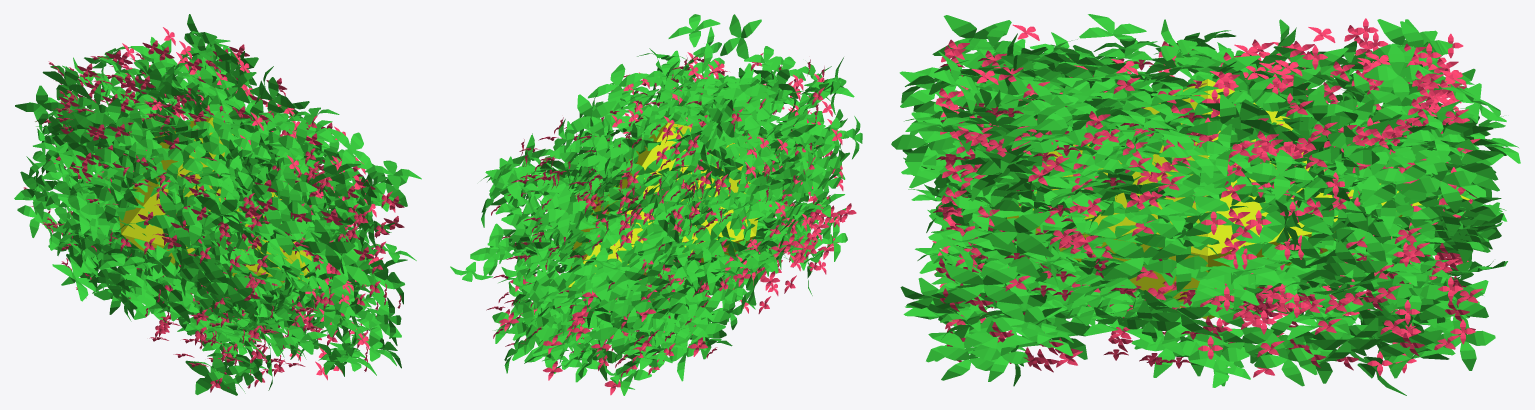
File: bushPinkFlower.fbx
3 views of the same model, side by side, from view 1: azimuth 30°, elevation 25°; view 2: azimuth 150°, elevation 25°; view 3: azimuth 270°, elevation 25° (orthographic). The views are drawn at different scales.
Parts seen in each view (by area): view 1: bushFlower, bushFlower|leaf|Dupli|85, bushFlower|leaf|Dupli|481, bushFlower|leaf|Dupli|111, bushFlower|leaf|Dupli|1006, bushFlower|leaf|Dupli|273, bushFlower|leaf|Dupli|475, bushFlower|leaf|Dupli|509, bushFlower|leaf|Dupli|687, bushFlower|leaf|Dupli|771, bushFlower|leaf|Dupli|980, bushFlower|leaf|Dupli|749 (+62 smaller); view 2: bushFlower, bushFlower|leaf|Dupli|488, bushFlower|leaf|Dupli|174, bushFlower|leaf|Dupli|541, bushFlower|leaf|Dupli|314, bushFlower|leaf|Dupli|440, bushFlower|leaf|Dupli|117, bushFlower|leaf|Dupli|171, bushFlower|leaf|Dupli|216, bushFlower|leaf|Dupli|786, bushFlower|leaf|Dupli|616, bushFlower|leaf|Dupli|75 (+47 smaller); view 3: bushFlower, bushFlower|leaf|Dupli|305, bushFlower|leaf|Dupli|507, bushFlower|leaf|Dupli|806, bushFlower|leaf|Dupli|953, bushFlower|leaf|Dupli|67, bushFlower|leaf|Dupli|555, bushFlower|leaf|Dupli|808, bushFlower|leaf|Dupli|111, bushFlower|leaf|Dupli|109, bushFlower|leaf|Dupli|80, bushFlower|leaf|Dupli|747 (+92 smaller).
Part boxes in pixels (x1=…): bushFlower: x1=119, y1=117, x2=311, y2=294; bushFlower|leaf|Dupli|85: x1=246, y1=200, x2=309, y2=255; bushFlower|leaf|Dupli|481: x1=147, y1=190, x2=199, y2=247; bushFlower|leaf|Dupli|111: x1=299, y1=219, x2=355, y2=269; bushFlower|leaf|Dupli|1006: x1=206, y1=259, x2=250, y2=308; bushFlower|leaf|Dupli|273: x1=86, y1=98, x2=141, y2=146; bushFlower|leaf|Dupli|475: x1=324, y1=242, x2=370, y2=288; bushFlower|leaf|Dupli|509: x1=196, y1=196, x2=244, y2=233; bushFlower|leaf|Dupli|687: x1=328, y1=128, x2=372, y2=168; bushFlower|leaf|Dupli|771: x1=145, y1=279, x2=190, y2=322; bushFlower|leaf|Dupli|980: x1=92, y1=178, x2=135, y2=221; bushFlower|leaf|Dupli|749: x1=269, y1=165, x2=317, y2=204; bushFlower: x1=568, y1=122, x2=763, y2=299; bushFlower|leaf|Dupli|488: x1=565, y1=94, x2=616, y2=137; bushFlower|leaf|Dupli|174: x1=540, y1=186, x2=588, y2=236; bushFlower|leaf|Dupli|541: x1=588, y1=64, x2=648, y2=107; bushFlower|leaf|Dupli|314: x1=720, y1=14, x2=761, y2=59; bushFlower|leaf|Dupli|440: x1=718, y1=68, x2=768, y2=115; bushFlower|leaf|Dupli|117: x1=642, y1=185, x2=694, y2=232; bushFlower|leaf|Dupli|171: x1=690, y1=218, x2=730, y2=260; bushFlower|leaf|Dupli|216: x1=590, y1=313, x2=646, y2=354; bushFlower|leaf|Dupli|786: x1=579, y1=134, x2=627, y2=178; bushFlower|leaf|Dupli|616: x1=607, y1=261, x2=648, y2=300; bushFlower|leaf|Dupli|75: x1=648, y1=286, x2=690, y2=329; bushFlower: x1=1007, y1=79, x2=1470, y2=319; bushFlower|leaf|Dupli|305: x1=943, y1=264, x2=1023, y2=304; bushFlower|leaf|Dupli|507: x1=982, y1=212, x2=1053, y2=257; bushFlower|leaf|Dupli|806: x1=1405, y1=156, x2=1476, y2=212; bushFlower|leaf|Dupli|953: x1=1155, y1=175, x2=1232, y2=215; bushFlower|leaf|Dupli|67: x1=1332, y1=200, x2=1402, y2=261; bushFlower|leaf|Dupli|555: x1=986, y1=301, x2=1061, y2=347; bushFlower|leaf|Dupli|808: x1=1364, y1=43, x2=1432, y2=105; bushFlower|leaf|Dupli|111: x1=891, y1=111, x2=959, y2=175; bushFlower|leaf|Dupli|109: x1=1312, y1=125, x2=1379, y2=188; bushFlower|leaf|Dupli|80: x1=1149, y1=213, x2=1219, y2=259; bushFlower|leaf|Dupli|747: x1=1254, y1=332, x2=1320, y2=386.
Size of the model in its own units: 102 by 102 by 194.
